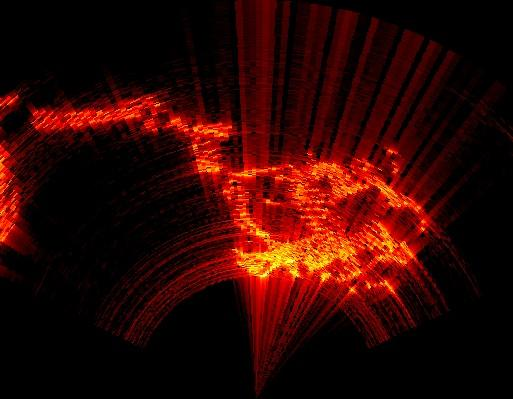shipwreck: (33, 95, 429, 280)
